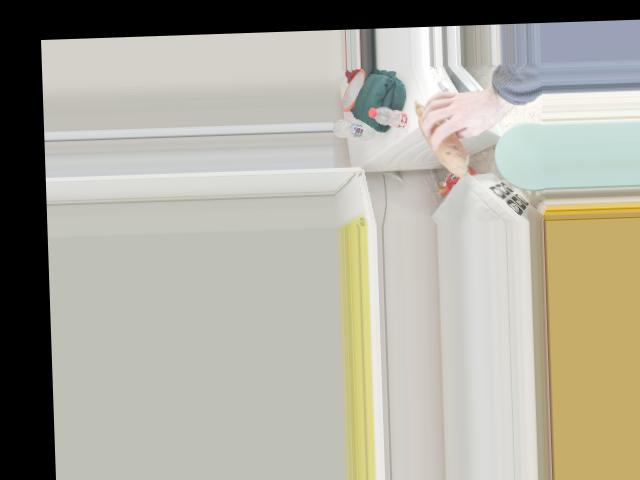sweet_potato: (417, 96, 470, 175)
